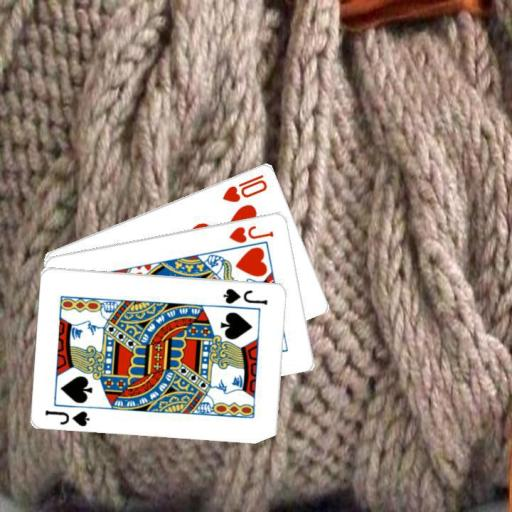10H: (219, 171, 269, 203)
JH: (226, 222, 275, 244)
JS: (220, 284, 269, 306), (42, 407, 91, 427)
